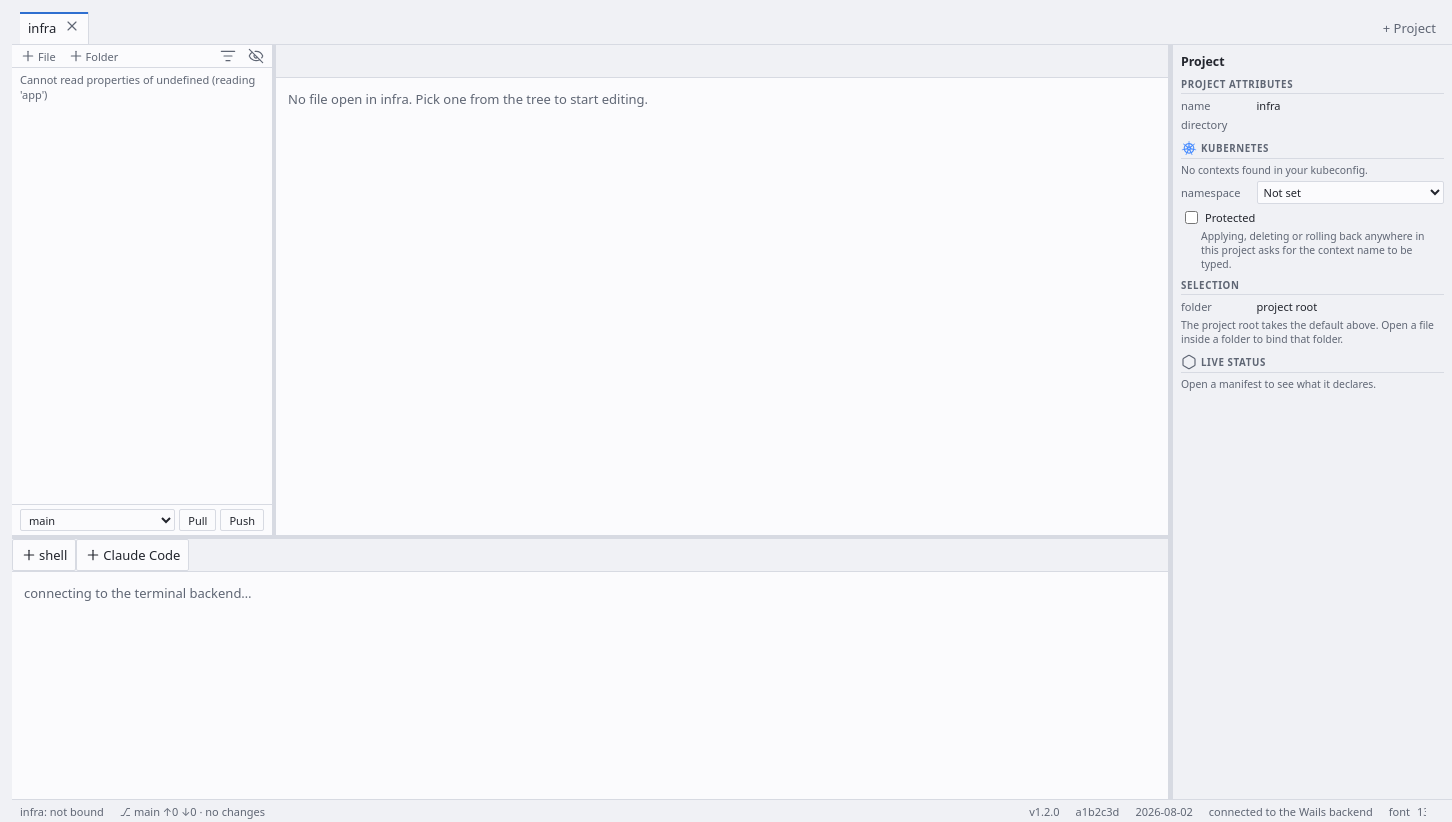
Scenario: the git operations (#9) › shows a failed operation's stderr verbatim
What coordinates should you click on to do the following:
click the button "Pull"
I would click on:
 (198, 520)
Its box is x1=179 y1=509 x2=216 y2=531.
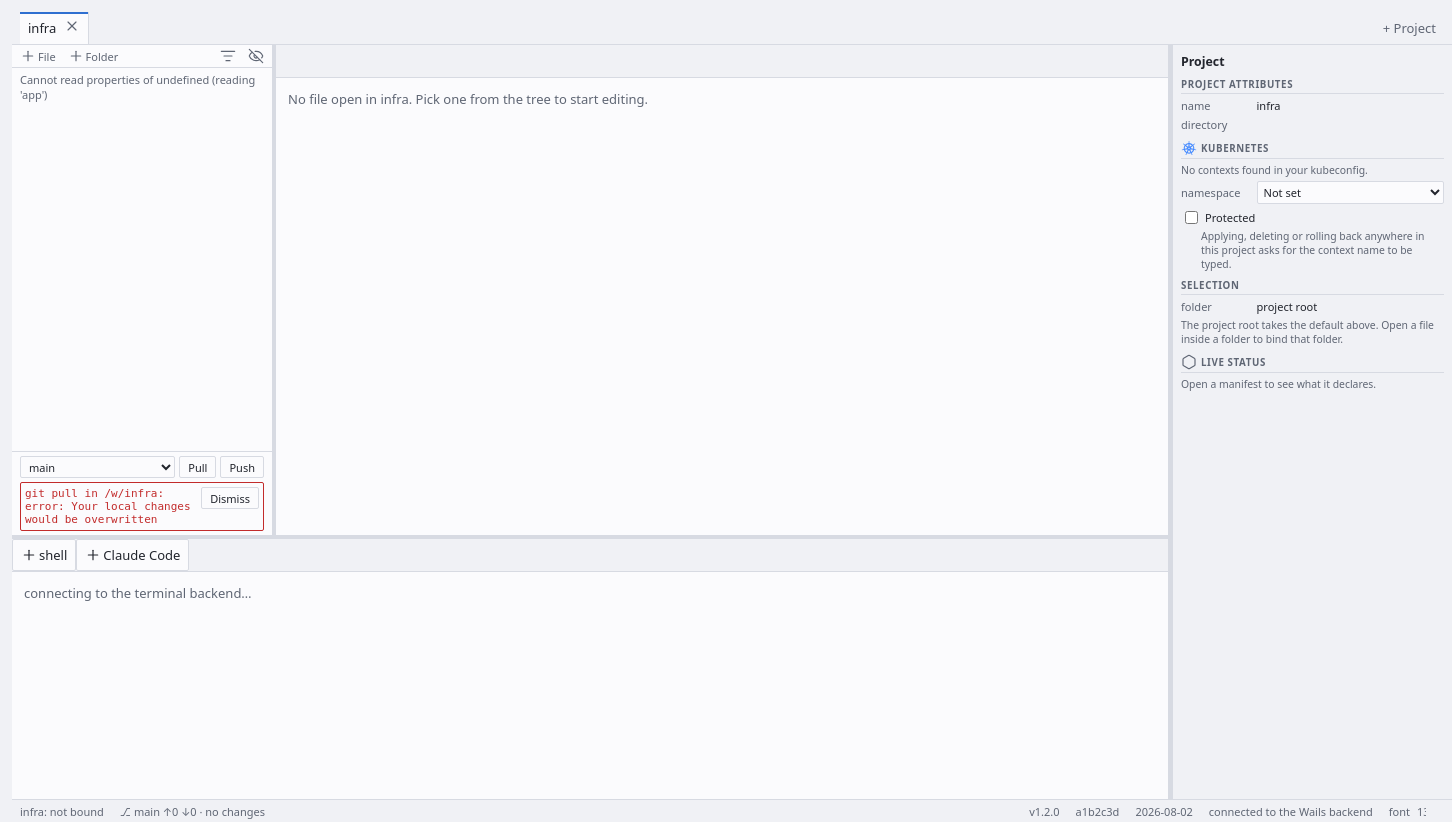
Expected: the message shows "error: Your local changes would be overwritten", x1=25 y1=487 x2=197 y2=526
